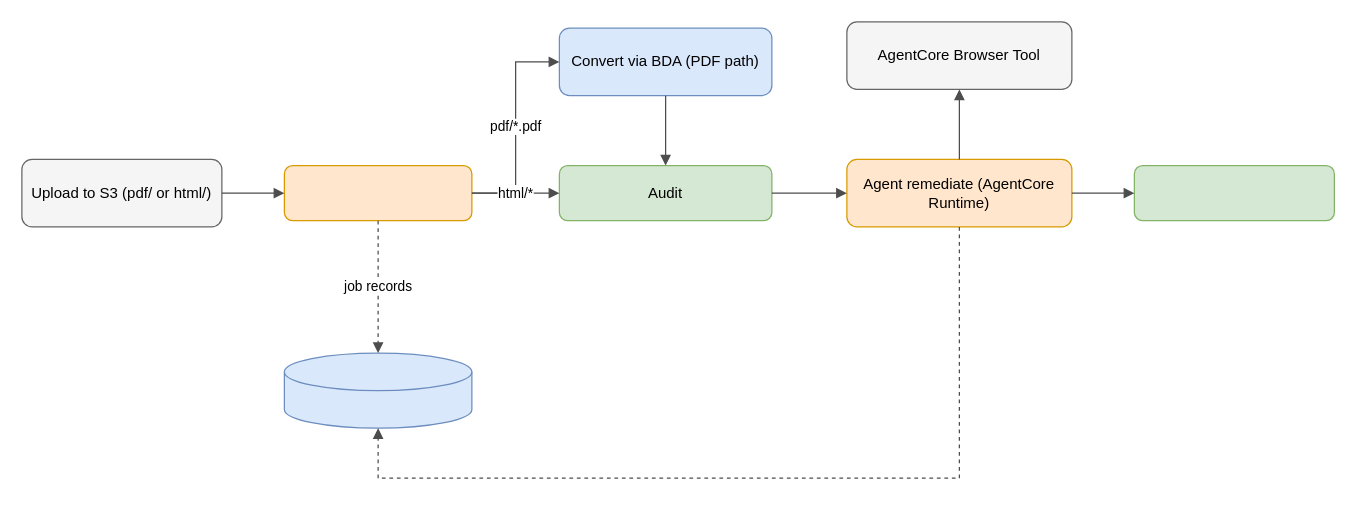
The diagram is 1356 pixels wide and 510 high, and some of its shapes have lost their labels. Each missing label, with the centre of its shape:
accessible/ prefix in S3: point (1233, 192)
DynamoDB job records: point (377, 390)
Trigger Lambda: point (377, 192)
